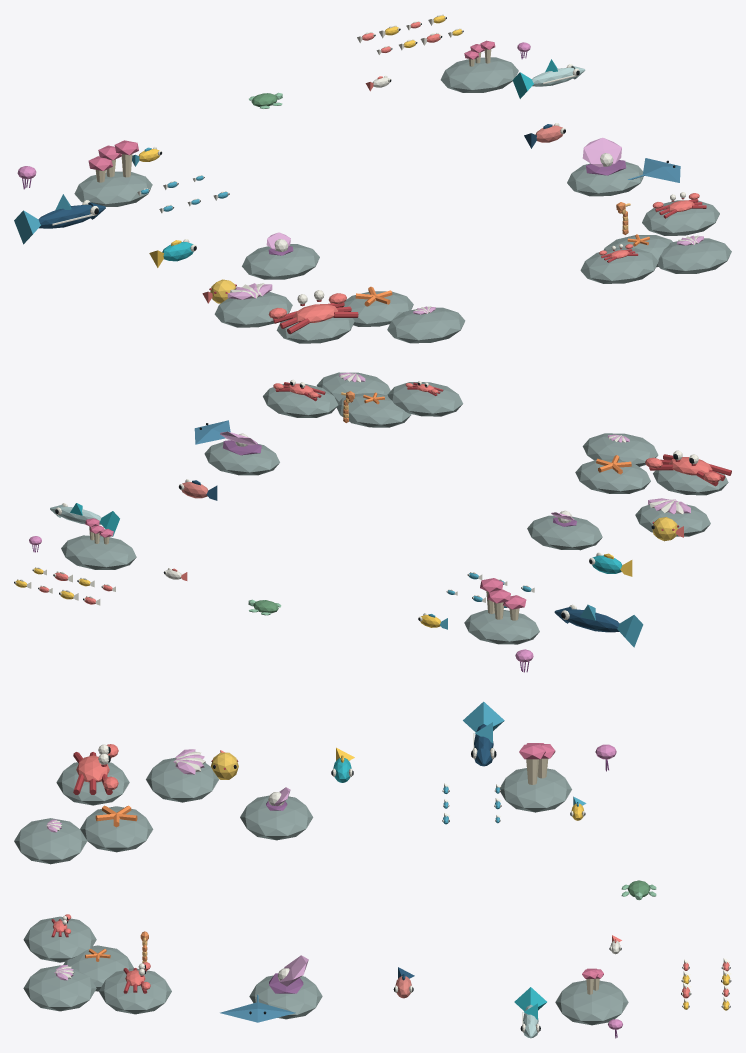
Rendered from artea_sea_life.glb.
3 views of the same model, one above another, from view 1: azimuth 30°, elevation 25°; view 2: azimuth 150°, elevation 25°; view 3: azimuth 270°, elevation 25° (orthographic). The views are drawn at different scales.
Parts seen in each view (by area): view 1: TidepoolRock_24, TidepoolRock_20, TidepoolRock_19, TidepoolRock_22, TidepoolRock_17, TidepoolRock_23, TidepoolRock_18, TidepoolRock_16, TidepoolRock_21, TidepoolRock_27, TidepoolRock_15, Sea_Mushrooms_Tall_01 (+7 smaller); view 2: TidepoolRock_24, TidepoolRock_23, TidepoolRock_22, TidepoolRock_17, TidepoolRock_27, TidepoolRock_28, TidepoolRock_20, TidepoolRock_16, TidepoolRock_21, TidepoolRock_18, TidepoolRock_15, TidepoolRock_19 (+5 smaller); view 3: TidepoolRock_20, TidepoolRock_24, TidepoolRock_19, TidepoolRock_23, TidepoolRock_22, TidepoolRock_17, TidepoolRock_27, TidepoolRock_18, TidepoolRock_16, TidepoolRock_21, TidepoolRock_15, TidepoolRock_28 (+6 smaller).
Part boxes in pixels (x1,y1,x2,y2): TidepoolRock_24: [440, 57, 518, 92]; TidepoolRock_20: [387, 307, 465, 343]; TidepoolRock_19: [658, 238, 731, 273]; TidepoolRock_22: [242, 244, 319, 279]; TidepoolRock_17: [580, 248, 658, 283]; TidepoolRock_23: [74, 171, 152, 206]; TidepoolRock_18: [214, 292, 292, 327]; TidepoolRock_16: [642, 200, 719, 235]; TidepoolRock_21: [567, 161, 643, 196]; TidepoolRock_27: [343, 291, 413, 326]; TidepoolRock_15: [276, 317, 354, 343]; Sea_Mushrooms_Tall_01: [88, 140, 138, 182]; TidepoolRock_24: [61, 535, 136, 569]; TidepoolRock_23: [464, 610, 539, 644]; TidepoolRock_22: [527, 515, 602, 550]; TidepoolRock_17: [387, 382, 462, 416]; TidepoolRock_27: [575, 459, 650, 493]; TidepoolRock_28: [336, 393, 411, 427]; TidepoolRock_20: [582, 433, 658, 466]; TidepoolRock_16: [263, 384, 338, 417]; TidepoolRock_21: [204, 442, 279, 475]; TidepoolRock_18: [635, 504, 710, 536]; TidepoolRock_15: [653, 470, 728, 495]; TidepoolRock_19: [316, 372, 390, 402]; TidepoolRock_20: [14, 818, 87, 864]; TidepoolRock_24: [555, 980, 628, 1025]; TidepoolRock_19: [23, 965, 96, 1011]; TidepoolRock_23: [500, 768, 571, 812]; TidepoolRock_22: [240, 795, 313, 840]; TidepoolRock_17: [23, 916, 96, 962]; TidepoolRock_27: [80, 806, 153, 852]; TidepoolRock_18: [146, 757, 218, 802]; TidepoolRock_16: [99, 968, 171, 1014]; TidepoolRock_21: [249, 975, 322, 1019]; TidepoolRock_15: [56, 762, 129, 805]; TidepoolRock_28: [63, 945, 133, 991].
Size of the model in its own units: 15.92 by 1.46 by 15.25.
